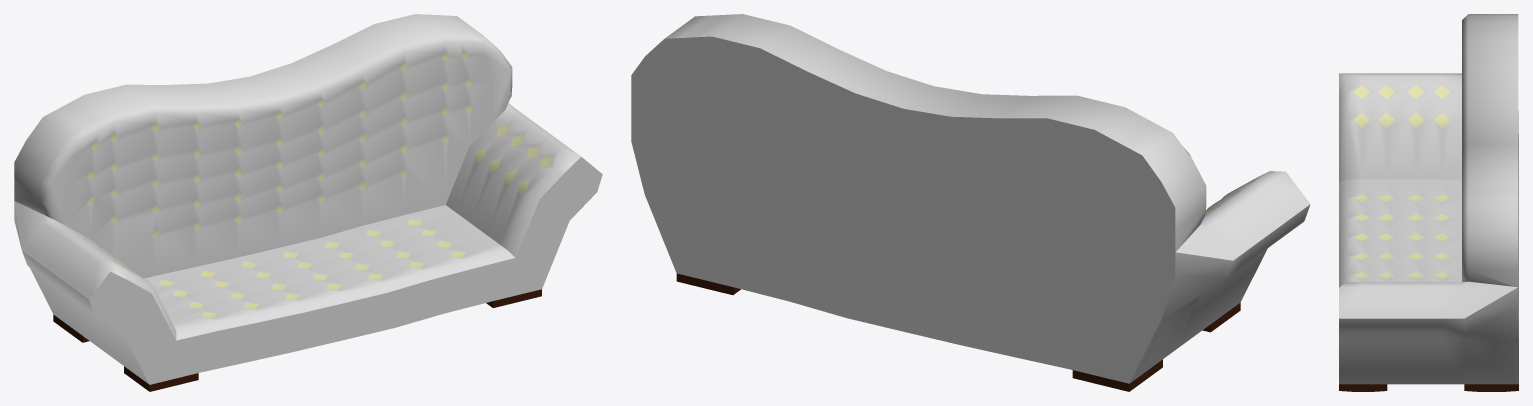
The model's file is LargeCouch_Justin.FBX.
The picture shows the model from 3 angles, left to right: view 1: azimuth 30°, elevation 25°; view 2: azimuth 150°, elevation 25°; view 3: azimuth 270°, elevation 25°; orthographic projection. The views are drawn at different scales.
Visible parts, largest first — view 1: Box001; view 2: Box001; view 3: Box001.
Part boxes in pixels (left/top/right/bottom): Box001: left=14, top=14, right=602, bottom=391; Box001: left=631, top=14, right=1310, bottom=391; Box001: left=1339, top=14, right=1518, bottom=391.
Bounding box in the file's own units: 144 × 60.95 × 46.8.
